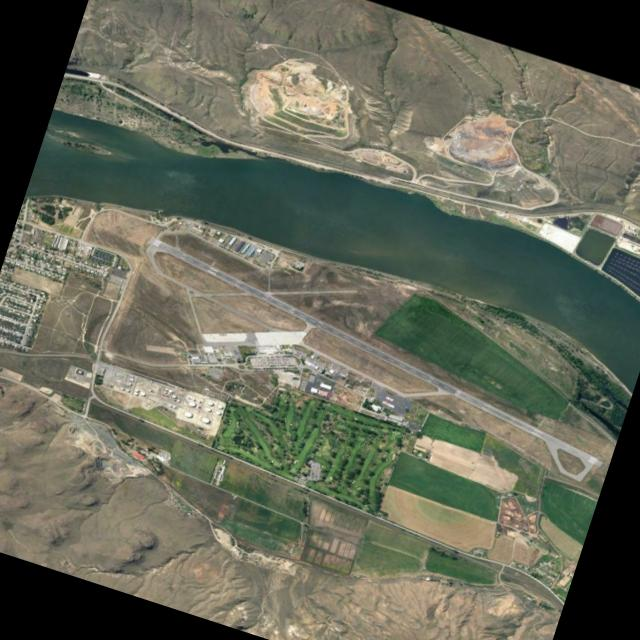storage-tank: (199, 414, 210, 423), (182, 409, 193, 417), (215, 401, 223, 409), (187, 398, 195, 406), (138, 389, 146, 396), (206, 399, 214, 406), (204, 405, 211, 411), (214, 408, 220, 415), (171, 393, 176, 397), (133, 390, 137, 394)
